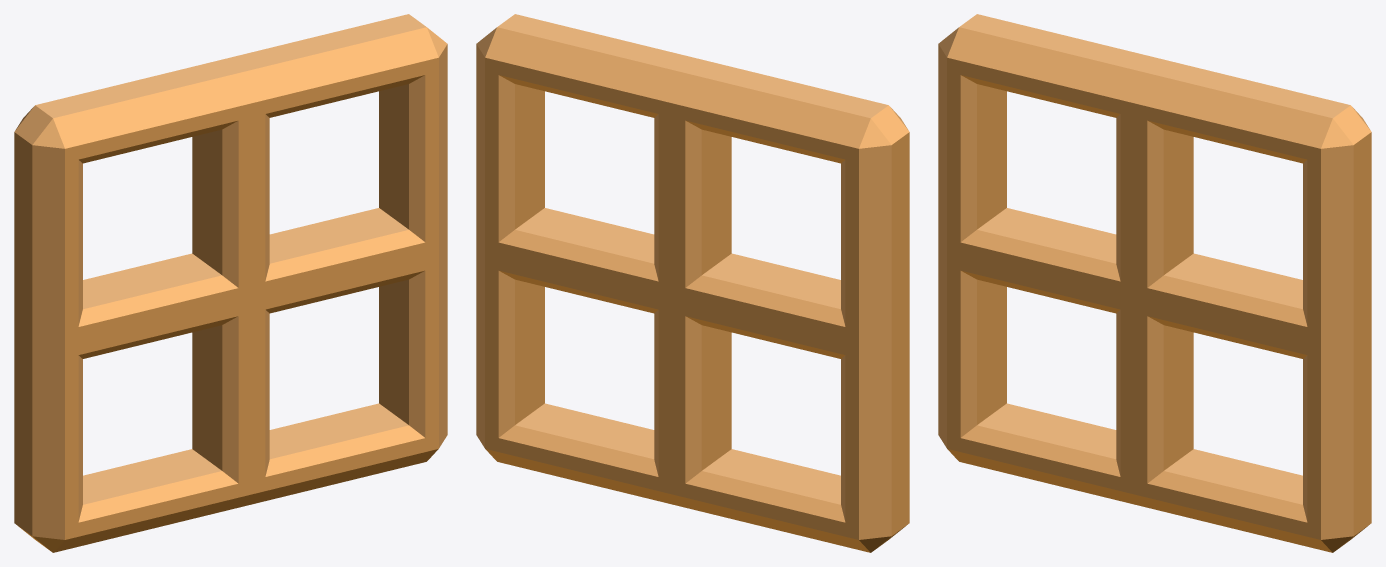
Rendered from m_deco_windowFrame.FBX.
The picture shows the model from 3 angles, left to right: view 1: azimuth 30°, elevation 25°; view 2: azimuth 150°, elevation 25°; view 3: azimuth 330°, elevation 25°; orthographic projection.
Parts seen in each view (by area): view 1: m_deco_windowFrame; view 2: m_deco_windowFrame; view 3: m_deco_windowFrame.
Boxes of the visible parts, left/top/right/bottom form: m_deco_windowFrame: left=14, top=14, right=447, bottom=552; m_deco_windowFrame: left=476, top=14, right=909, bottom=552; m_deco_windowFrame: left=938, top=14, right=1371, bottom=552.
Bounding box in the file's own units: 2 × 2 × 0.35.
